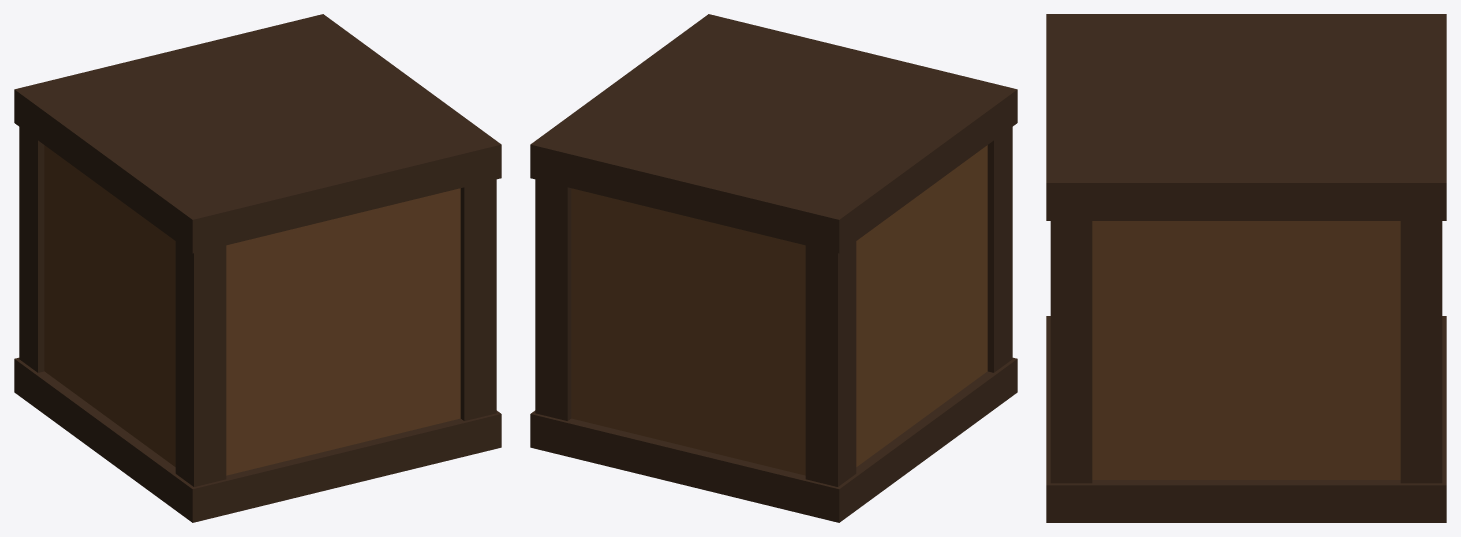
File: crate_a.fbx
3 views of the same model, side by side, from view 1: azimuth 30°, elevation 25°; view 2: azimuth 150°, elevation 25°; view 3: azimuth 270°, elevation 25° (orthographic). The views are drawn at different scales.
Visible parts, largest first — view 1: crate_a; view 2: crate_a; view 3: crate_a.
Part boxes in pixels (box(x1,y1,x2,y2)): crate_a: box(14, 14, 501, 522); crate_a: box(530, 14, 1017, 522); crate_a: box(1046, 14, 1446, 522).
Bounding box in the file's own units: 0.96 × 0.9 × 0.96.
